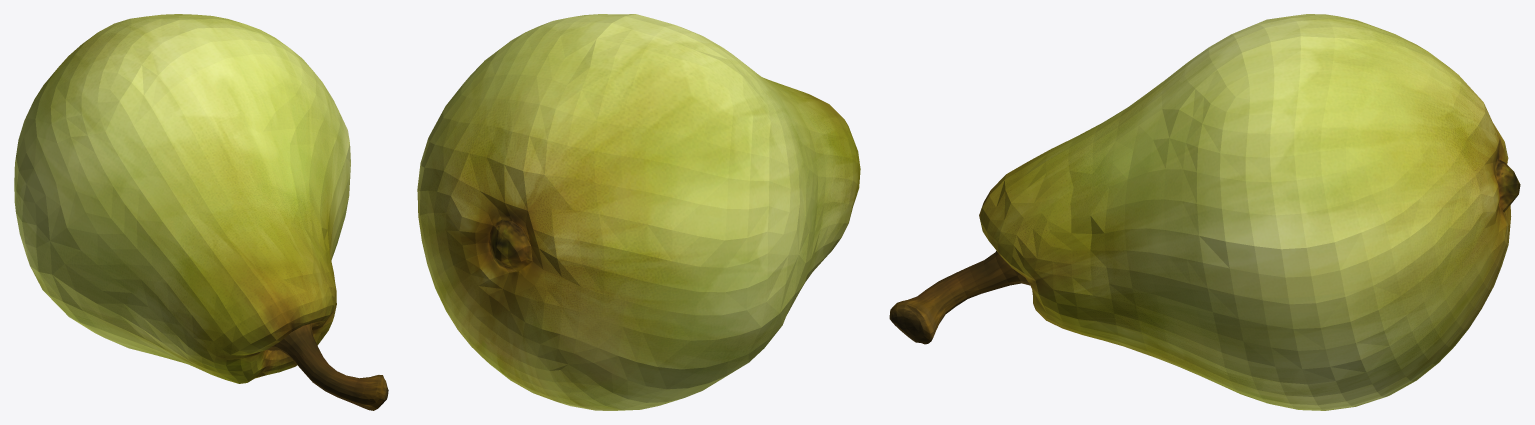
File: Pera.obj
3 renders of one model, left to right at view 1: azimuth 30°, elevation 25°; view 2: azimuth 150°, elevation 25°; view 3: azimuth 270°, elevation 25°, orthographic. The views are drawn at different scales.
Parts seen in each view (by area): view 1: Object.1; view 2: Object.1; view 3: Object.1.
Part boxes in pixels (x1,y1,x2,y2): Object.1: (14, 14, 388, 410); Object.1: (417, 14, 860, 410); Object.1: (889, 14, 1520, 410).
Size of the model in its own units: 24.74 by 24.94 by 39.62.
1 material, 1 textured.
